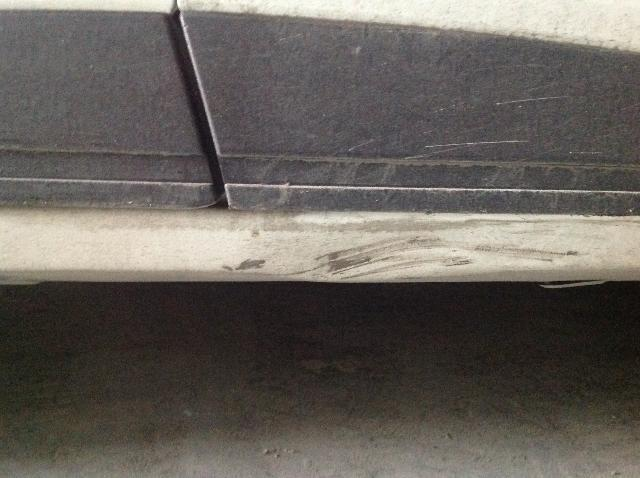scratch: (305, 235, 605, 282), (425, 139, 531, 148), (497, 95, 569, 104), (235, 259, 265, 270)
